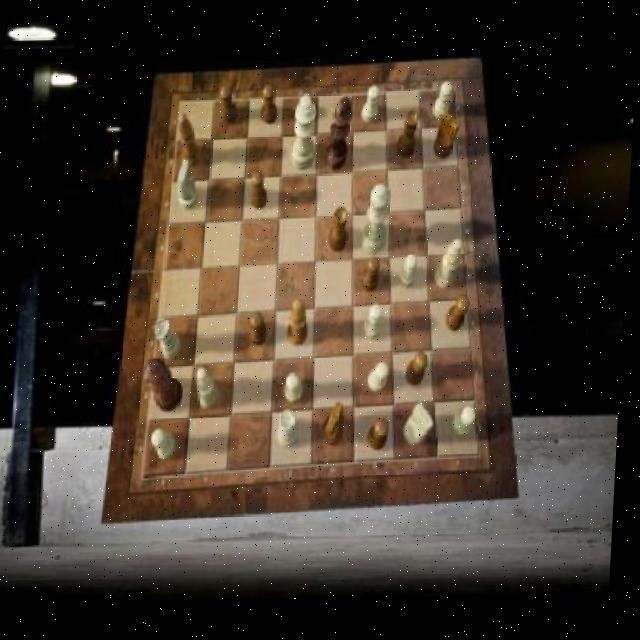bishop: (178, 113, 204, 169), (290, 299, 313, 345)
black-bishop: (327, 97, 356, 172)
black-king: (436, 113, 463, 161), (326, 403, 351, 447)
black-knight: (449, 297, 474, 334), (409, 354, 433, 388), (219, 86, 239, 126), (363, 257, 382, 293), (253, 172, 271, 210), (372, 420, 394, 451), (263, 86, 280, 126), (253, 312, 272, 347)
black-pawn: (146, 358, 188, 414)
black-queen: (398, 111, 421, 160), (331, 208, 352, 254)
black-rook: (437, 241, 465, 290), (200, 368, 225, 411)
white-bishop: (291, 95, 318, 171)
white-king: (408, 404, 439, 447), (178, 159, 202, 210)
white-knight: (155, 428, 181, 461), (457, 408, 482, 439), (362, 86, 381, 124), (434, 84, 453, 122), (368, 305, 387, 341), (371, 363, 393, 394), (402, 255, 421, 290), (288, 373, 307, 404)
white-pawn: (363, 186, 393, 256)
white-queen: (157, 319, 187, 361), (281, 410, 305, 449)
